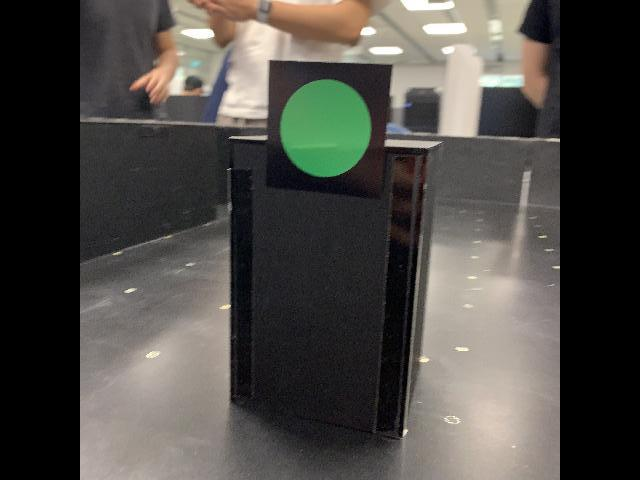go: (266, 59, 396, 199)
